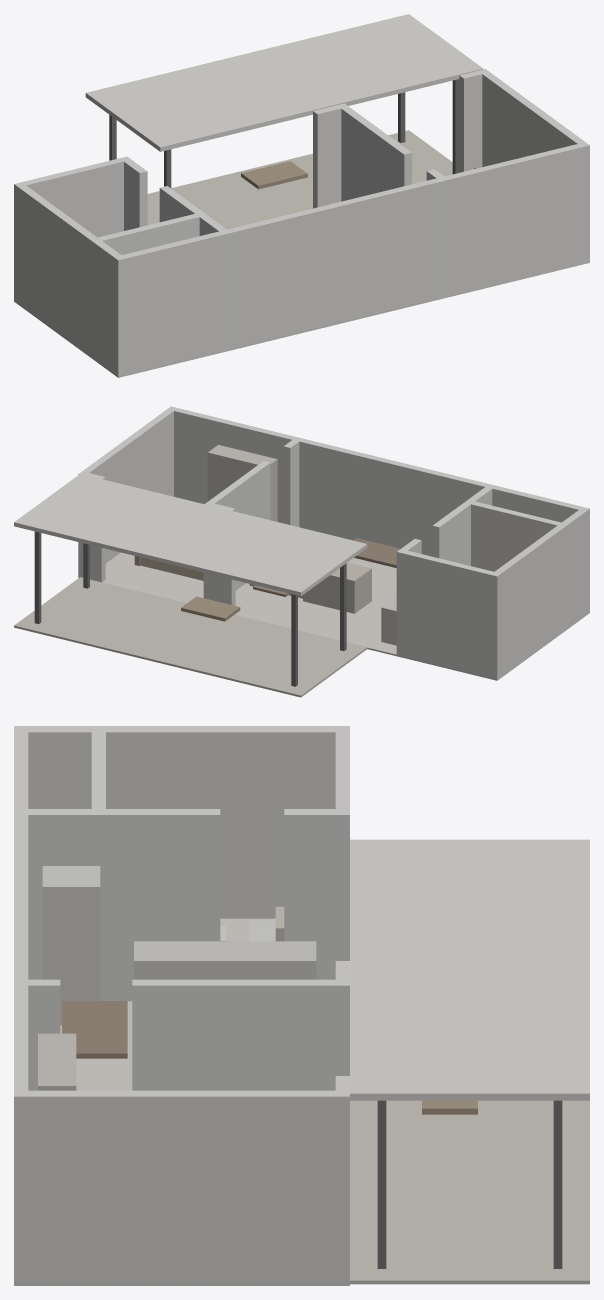
The model's file is ground_floor_model_polished.glb.
3 renders of one model, top to bottom at view 1: azimuth 30°, elevation 25°; view 2: azimuth 150°, elevation 25°; view 3: azimuth 270°, elevation 25°, orthographic. The views are drawn at different scales.
Visible parts, largest first — view 1: rear_wall, porch_roof, left_wall, porch_floor, right_wall, front_wall_service, living_bedroom_wall_front, front_wall_pier, front_wall_right, bath_utility_wall, service_living_wall_rear, service_living_wall_front (+4 smaller); view 2: rear_wall, porch_roof, porch_floor, front_wall_service, left_wall, apartment_floor, right_wall, bath_utility_wall, living_bedroom_wall_front, wardrobe, service_living_wall_rear, kitchen_island (+11 smaller); view 3: right_wall, porch_roof, porch_floor, left_wall, living_bedroom_wall_front, service_living_wall_rear, service_living_wall_front, rear_wall, fridge, kitchen_counter, apartment_floor, dining_table (+8 smaller).
Boxes of the visible parts, x1,y1,x2,y2 form: rear_wall: (114,144,589,376); porch_roof: (85,14,483,151); left_wall: (14,182,125,377); porch_floor: (147,130,452,229); right_wall: (479,69,589,264); front_wall_service: (14,158,123,303); living_bedroom_wall_front: (337,103,411,201); front_wall_pier: (313,105,341,208); front_wall_right: (459,69,485,172); bath_utility_wall: (98,214,199,255); service_living_wall_rear: (159,186,231,351); service_living_wall_front: (120,156,147,230); rear_wall: (167,406,589,615); porch_roof: (14,474,367,596); porch_floor: (14,577,367,697); front_wall_service: (403,550,501,680); left_wall: (490,508,589,679); apartment_floor: (78,552,585,680); right_wall: (78,407,176,577); bath_utility_wall: (471,501,561,571); living_bedroom_wall_front: (203,461,270,599); wardrobe: (207,445,277,521); service_living_wall_rear: (432,485,495,565); kitchen_island: (303,562,371,613); right_wall: (14,1090,349,1285); porch_roof: (350,839,589,1100); porch_floor: (350,1100,589,1284); left_wall: (14,726,349,918); living_bedroom_wall_front: (132,979,349,1090); service_living_wall_rear: (14,809,220,1001); service_living_wall_front: (284,809,349,979); rear_wall: (14,726,28,1285); fridge: (42,866,100,1025); kitchen_counter: (134,941,316,979); apartment_floor: (14,918,349,1285); dining_table: (62,1001,127,1058).
Bounding box in the file's own units: 10.96 × 2.63 × 7.2.
